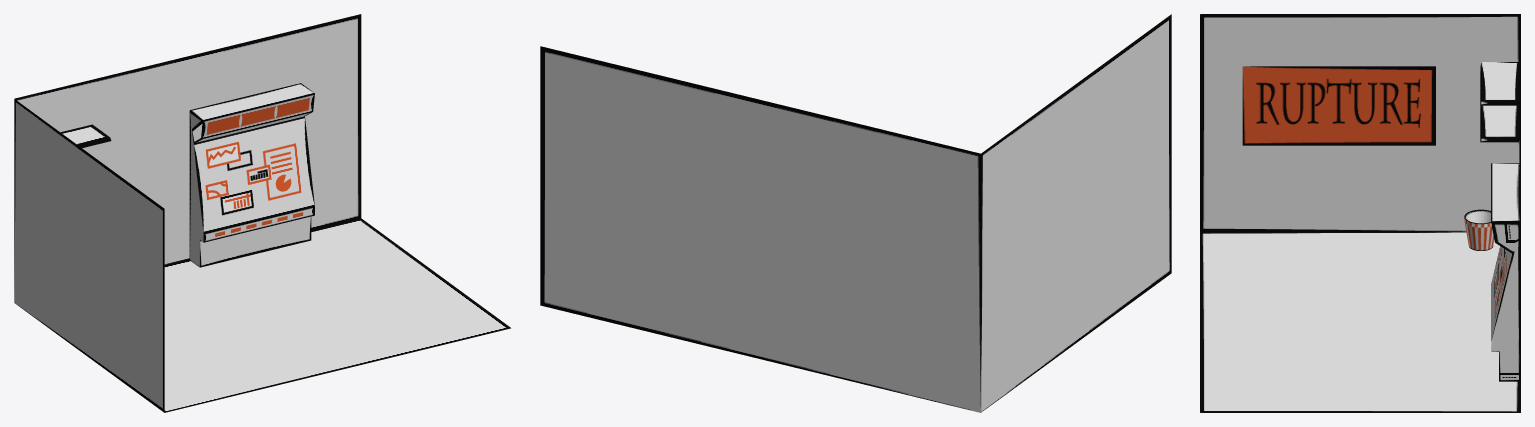
The model's file is office2.6.fbx.
The picture shows the model from 3 angles, left to right: view 1: azimuth 30°, elevation 25°; view 2: azimuth 150°, elevation 25°; view 3: azimuth 270°, elevation 25°; orthographic projection. The views are drawn at different scales.
Parts seen in each view (by area): view 1: Cylinder; view 2: Cylinder; view 3: Cylinder.
Boxes of the visible parts, box(x1,y1,x2,y2) form: Cylinder: box(14, 14, 510, 412); Cylinder: box(540, 14, 1171, 412); Cylinder: box(1200, 14, 1520, 412).
Bounding box in the file's own units: 3200 × 1800 × 2400.
1 material, 1 textured.
